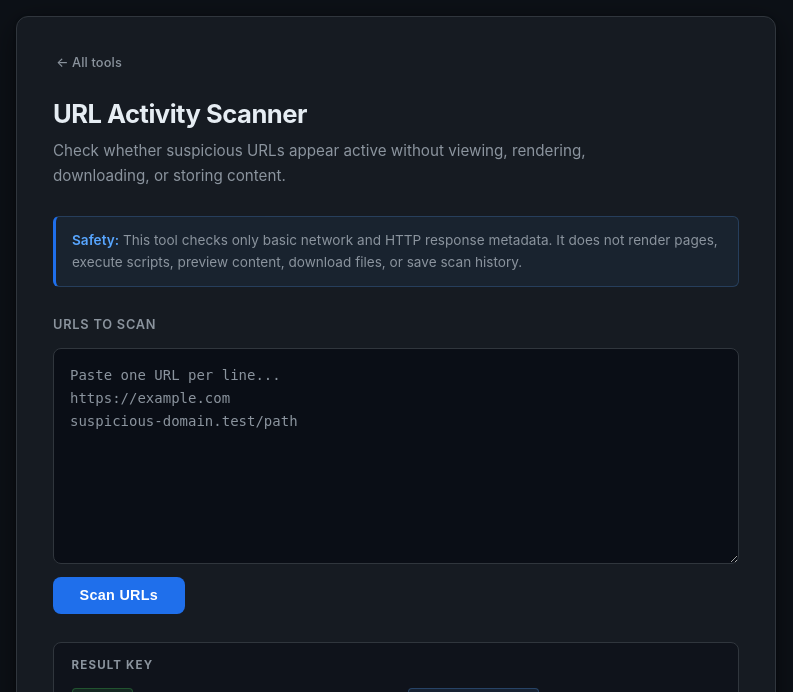
Scenario: R1 — results visibility and focus › returns focus to the scan button after a network failure
This screenshot has width=793, height=692.
Replace the text in the text box with "https://a.test" at (396, 456), box [53,348,739,564]
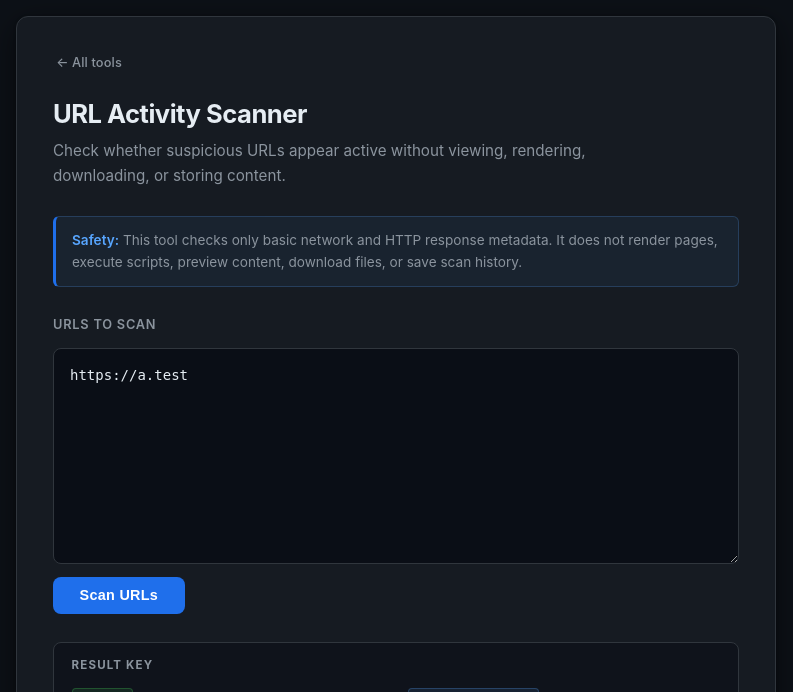
Click the button "Scan URLs".
click(119, 595)  # box [53,577,185,614]
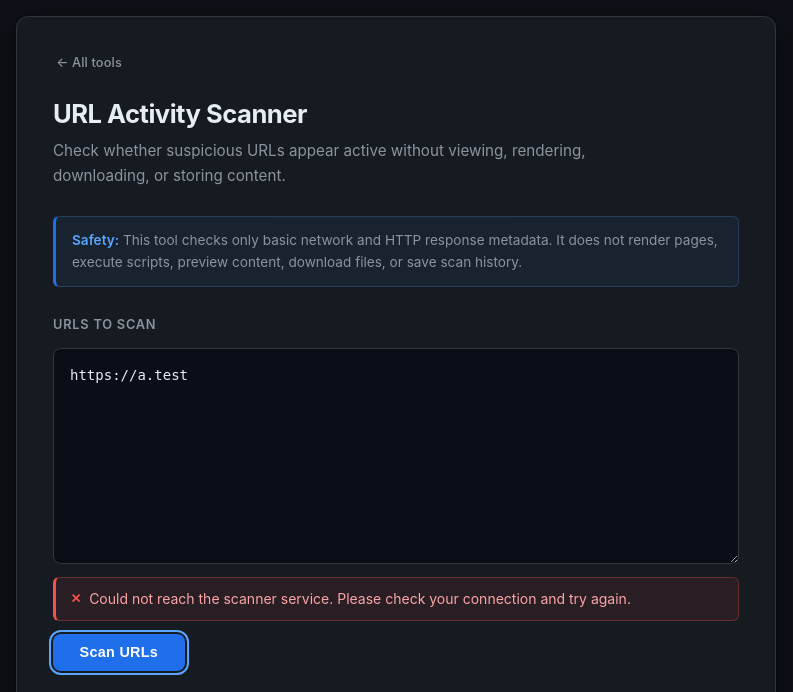
Expected: the message is shown, [53,577,739,621]
